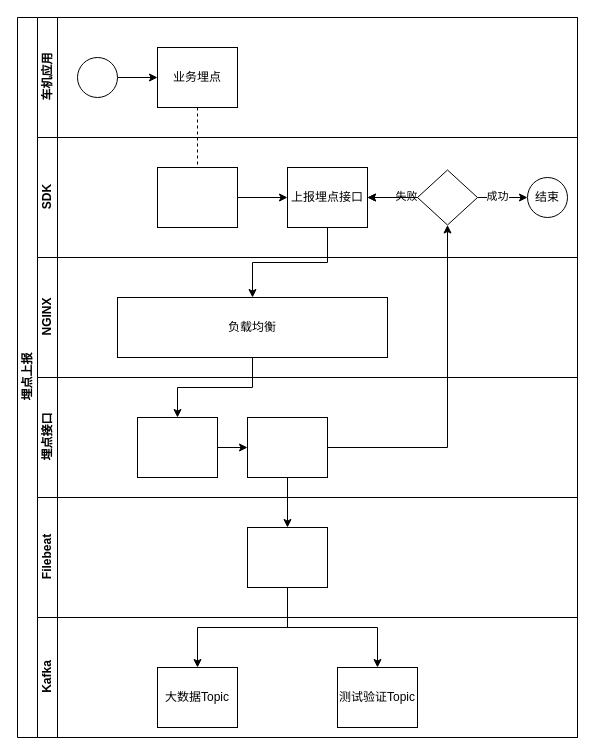
This 595x755 diagram has some shape labels left out. Each missing label, with the centre of its shape:
"上报状态" goes at pixel 447 197.
"埋点数据存储" goes at pixel 197 197.
"埋点落盘文件" goes at pixel 287 447.
"开始" goes at pixel 97 77.
"接收埋点数据" goes at pixel 177 447.
"收集文件日志" goes at pixel 287 557.
